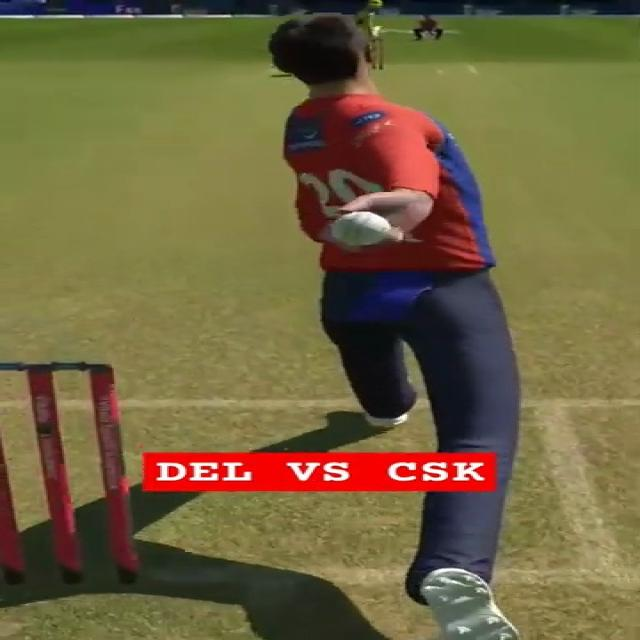ball: (331, 211, 389, 246)
